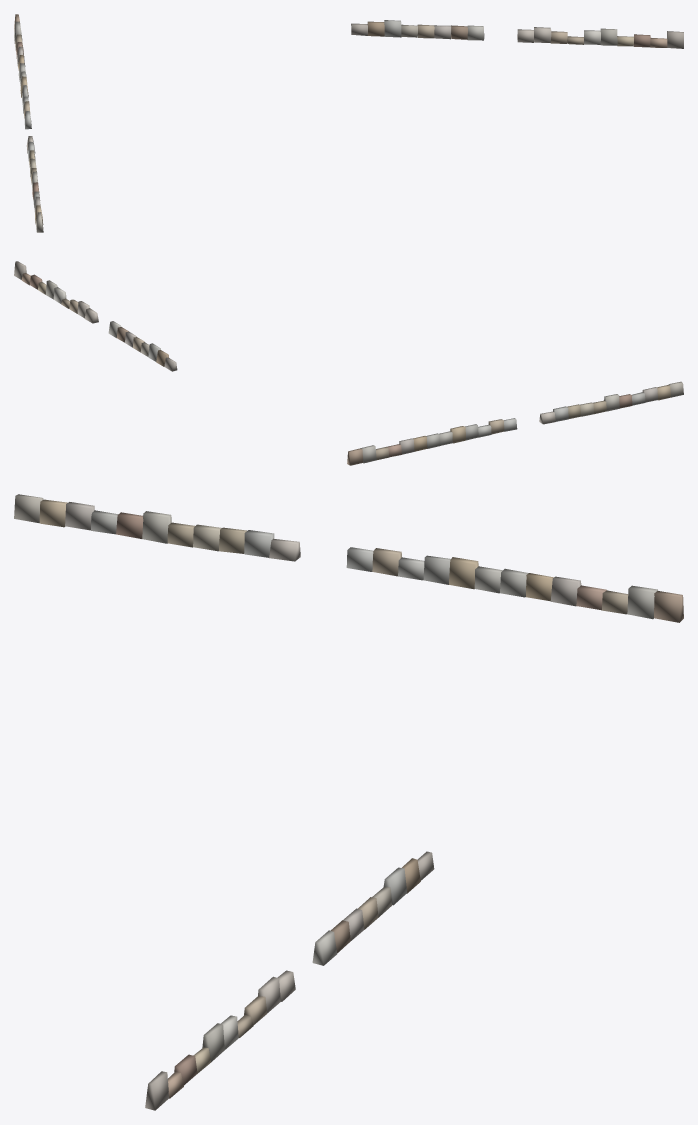
File: farm_-5_0_far.glb
The picture shows the model from 3 angles, top to bottom: view 1: azimuth 30°, elevation 25°; view 2: azimuth 150°, elevation 25°; view 3: azimuth 270°, elevation 25°; orthographic projection. The views are drawn at different scales.
Visible parts, largest first — view 1: geometry_0; view 2: geometry_0; view 3: geometry_0.
Boxes of the visible parts, <box> form: geometry_0: <box>14,14,683,232</box>; geometry_0: <box>14,261,683,465</box>; geometry_0: <box>14,494,683,1110</box>.
Bounding box in the file's own units: 74.33 × 4.78 × 36.31.
